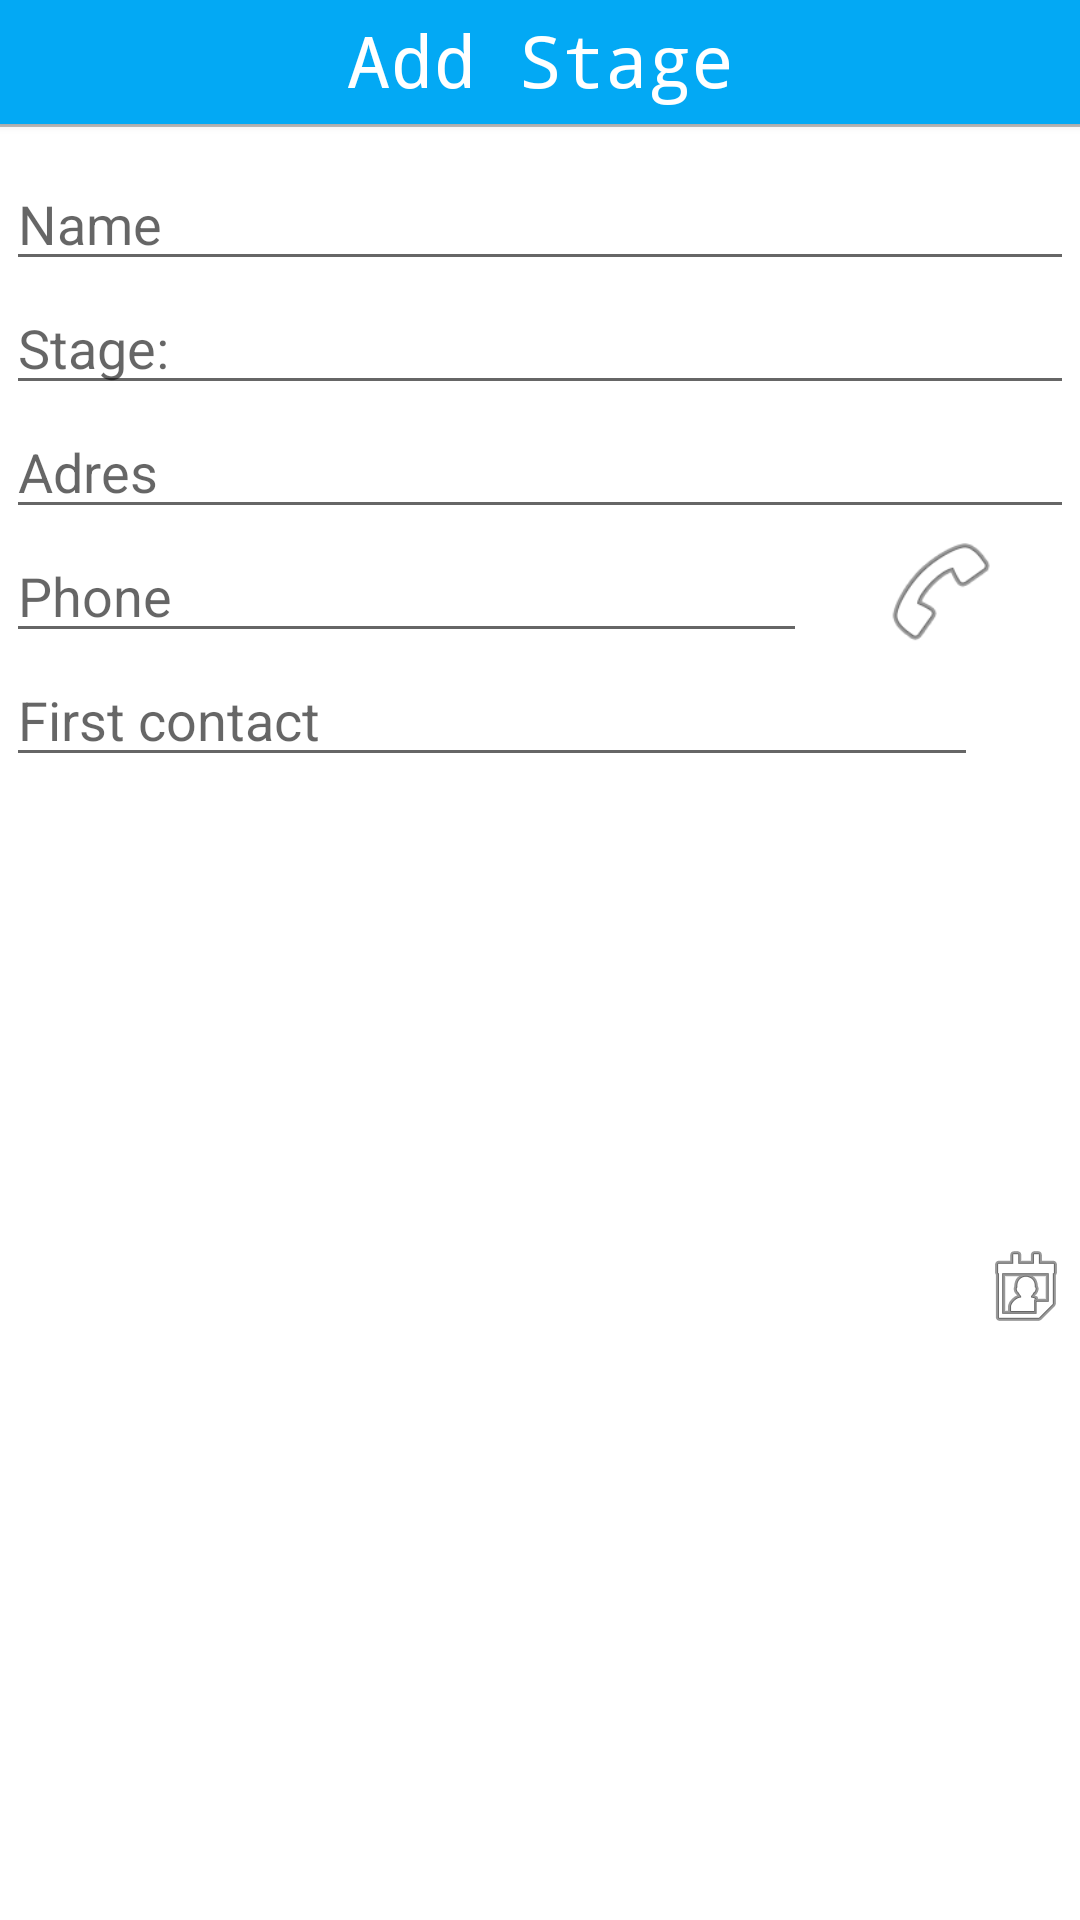

Icon click points for this 1080px×1920px phone screenshot, format [x,y]:
calendar: [1026,1286]
call: [941,591]
